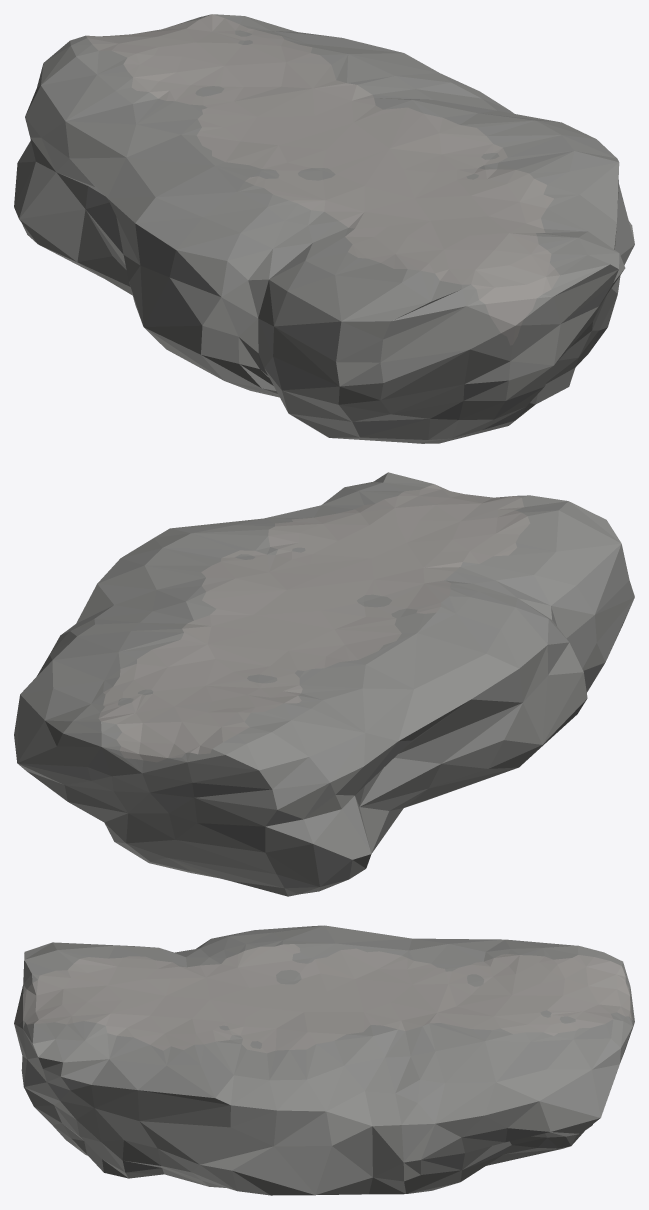
Rendered from Cavern_Floor_Narrow_Straight-01.fbx.
3 views of the same model, one above another, from view 1: azimuth 30°, elevation 25°; view 2: azimuth 150°, elevation 25°; view 3: azimuth 270°, elevation 25° (orthographic). The views are drawn at different scales.
Visible parts, largest first — view 1: Cavern_Floor_Narrow_Straight-01; view 2: Cavern_Floor_Narrow_Straight-01; view 3: Cavern_Floor_Narrow_Straight-01.
Part boxes in pixels (x1=…): Cavern_Floor_Narrow_Straight-01: x1=14, y1=14, x2=634, y2=443; Cavern_Floor_Narrow_Straight-01: x1=14, y1=472, x2=634, y2=896; Cavern_Floor_Narrow_Straight-01: x1=14, y1=925, x2=634, y2=1195.
Size of the model in its own units: 1252 by 508 by 1743.
Materials: 1 (1 with a texture image).
